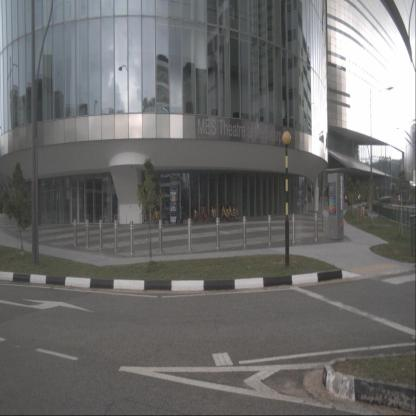cone: (362, 208, 365, 219), (360, 208, 363, 218), (377, 207, 379, 217)
